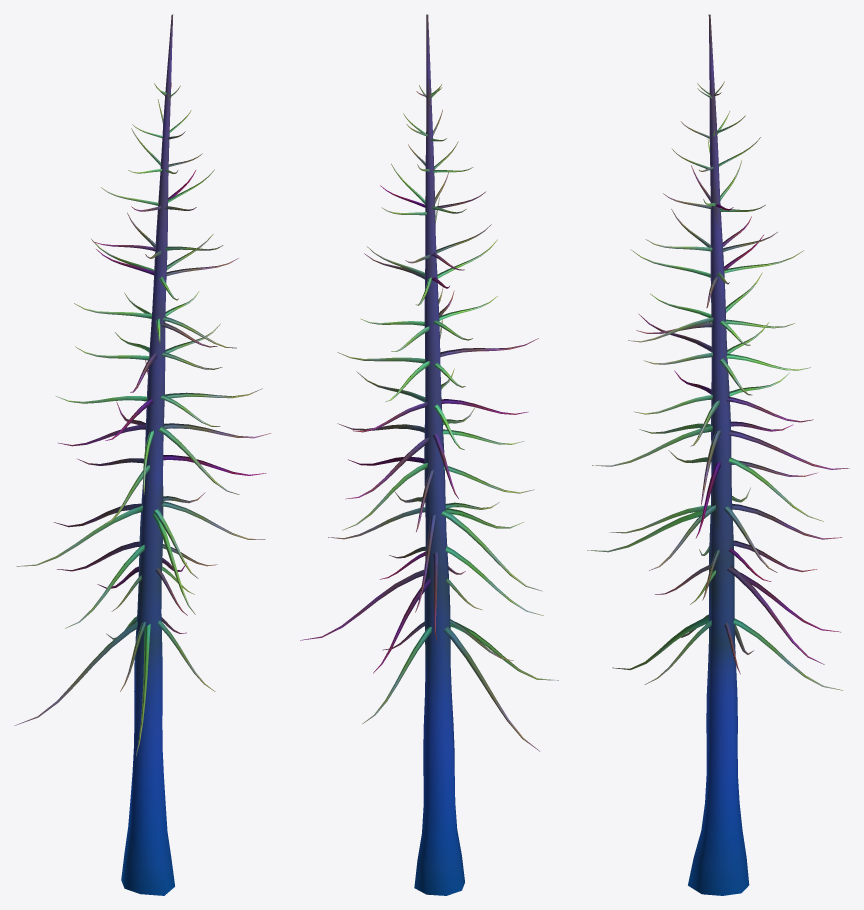
The model's file is spruce-grove-d.glb.
3 renders of one model, left to right at view 1: azimuth 30°, elevation 25°; view 2: azimuth 150°, elevation 25°; view 3: azimuth 270°, elevation 25°, orthographic. The views are drawn at different scales.
Parts seen in each view (by area): view 1: bark; view 2: bark; view 3: bark.
Part boxes in pixels (box(x1,y1,x2,y2)): bark: box(14, 14, 271, 895); bark: box(300, 14, 558, 895); bark: box(587, 14, 849, 895).
Bounding box in the file's own units: 6.25 × 22.44 × 6.07.
